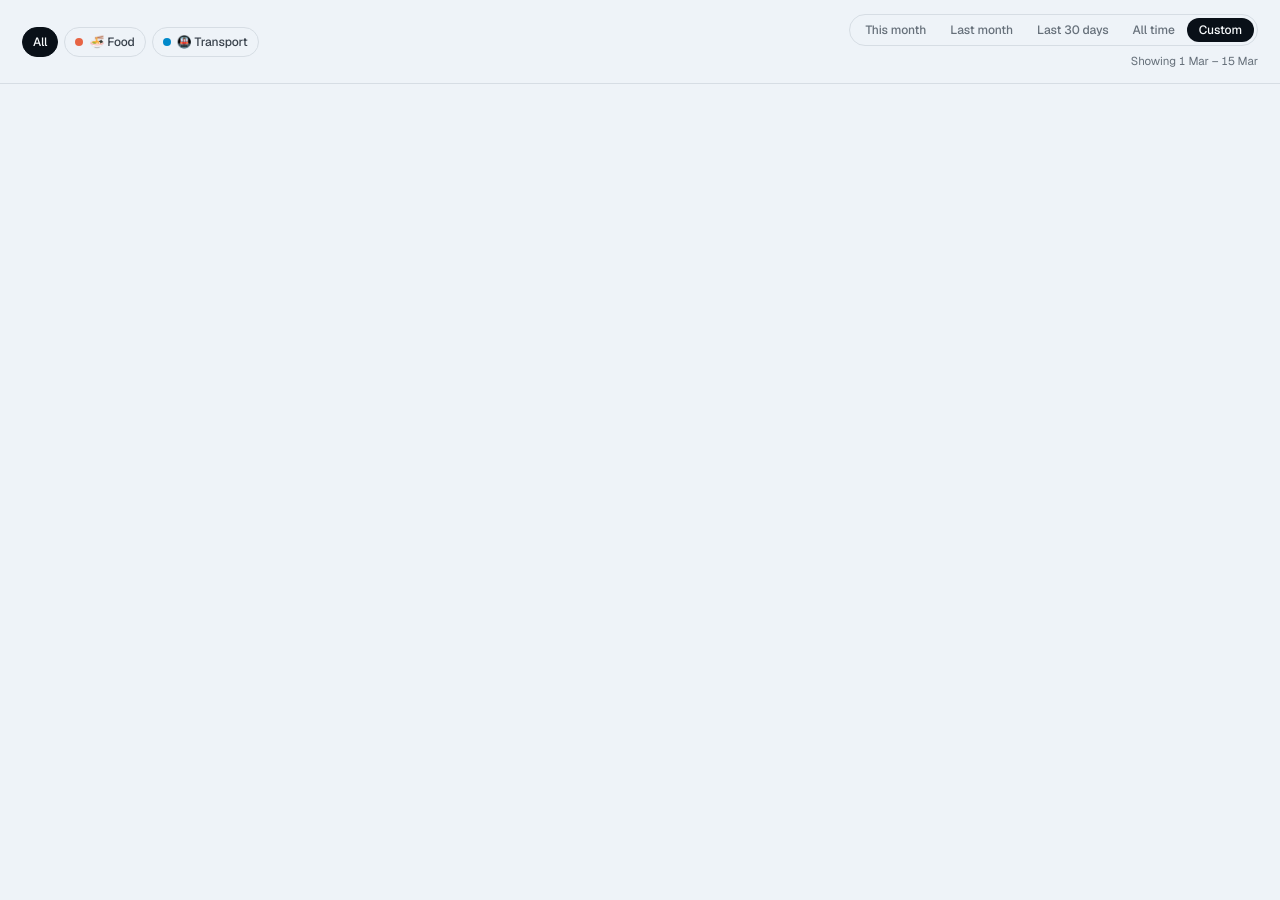
Scenario: FilterBar — custom range caption › does not show the caption when Custom is active but popover is open (caption hides while editing)
Note: Open the popover
Click the button "Custom".
click(1220, 30)  # box top-left (1187, 18), bottom-right (1254, 42)
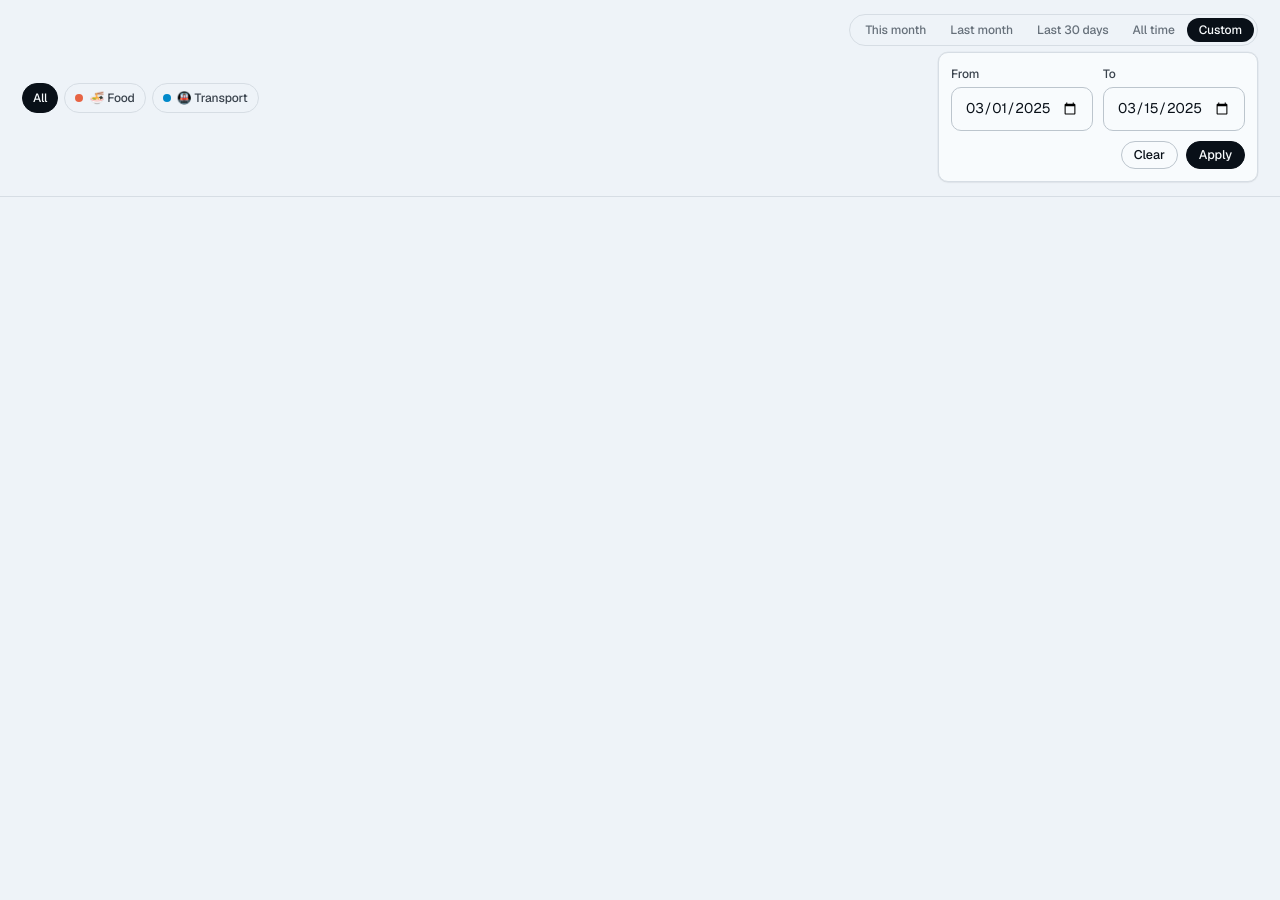
Expected: the text with class "bar-range-caption" is gone
